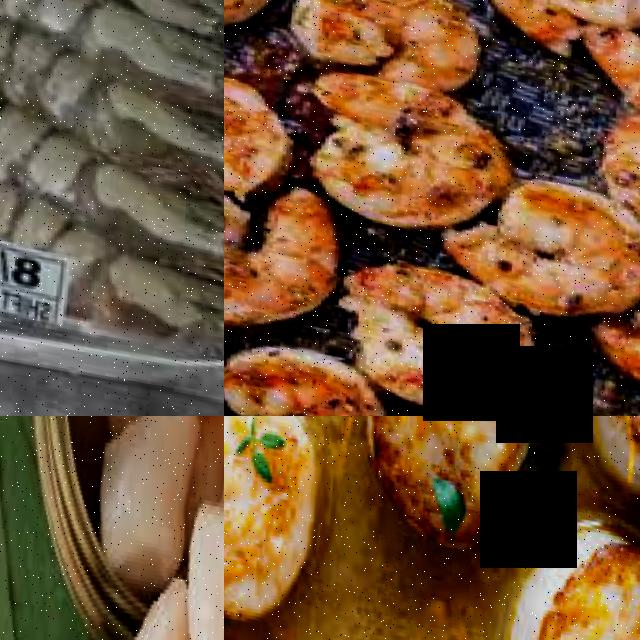sea scallops: (83, 416, 204, 582)
shrimp: (0, 22, 205, 143), (0, 91, 101, 202)
spinach: (301, 65, 518, 233), (340, 416, 558, 562), (344, 259, 546, 415), (447, 163, 640, 319), (224, 416, 335, 631), (475, 507, 640, 640), (282, 0, 495, 86), (224, 174, 341, 319), (224, 337, 385, 416), (224, 50, 300, 205), (465, 0, 640, 36)
